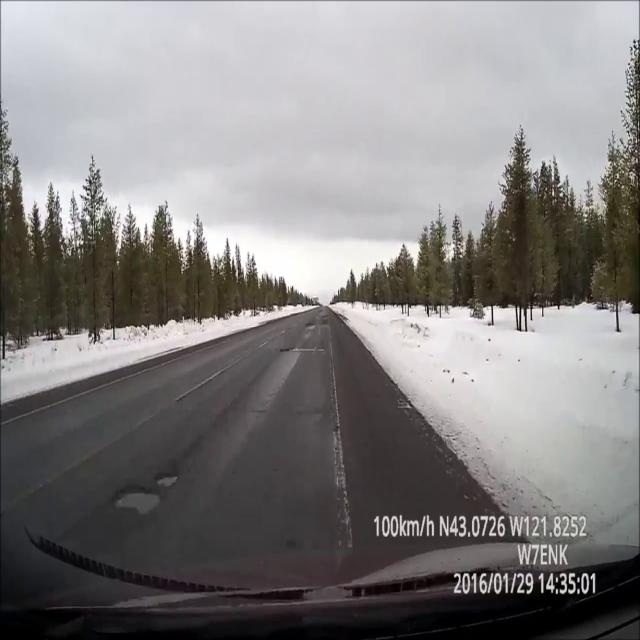Pothole: (109, 473, 182, 519), (280, 347, 326, 353), (305, 322, 316, 330), (321, 315, 328, 318), (319, 309, 323, 312)
